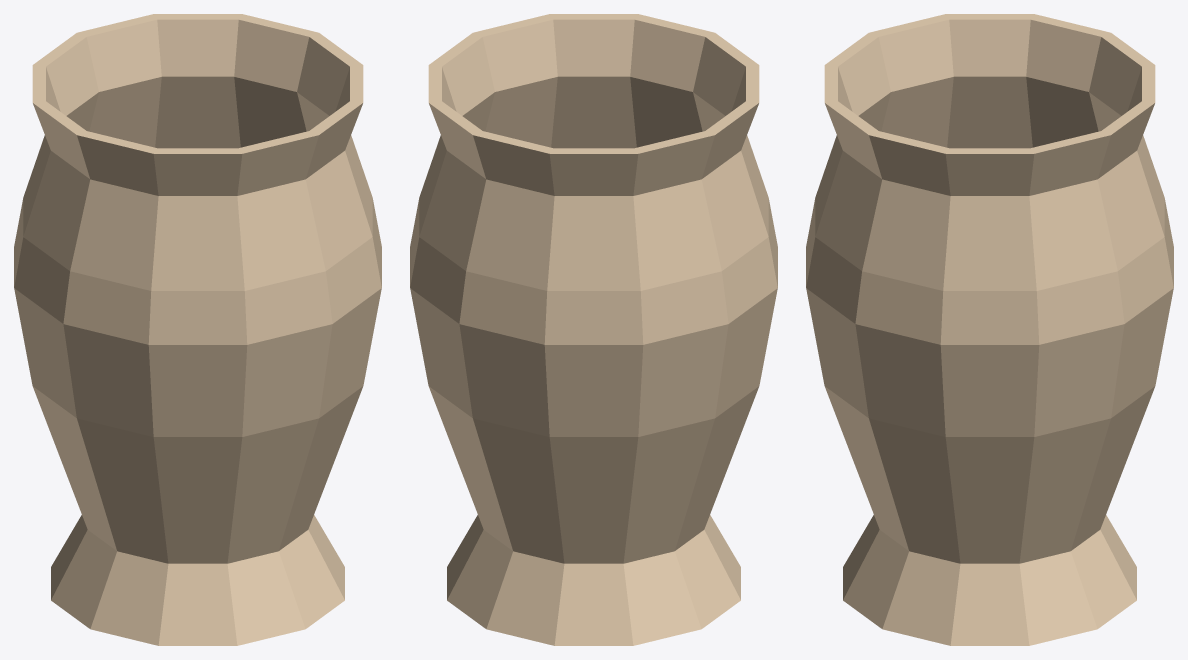
Rendered from temple_Prop_Vase.glb.
The picture shows the model from 3 angles, left to right: view 1: azimuth 30°, elevation 25°; view 2: azimuth 150°, elevation 25°; view 3: azimuth 270°, elevation 25°; orthographic projection.
Parts seen in each view (by area): view 1: object1; view 2: object1; view 3: object1.
Boxes of the visible parts, bbox=[...] form: object1: bbox=[14, 14, 381, 645]; object1: bbox=[410, 14, 777, 645]; object1: bbox=[806, 14, 1173, 645].
Size of the model in its own units: 0.25 by 0.375 by 0.25.
